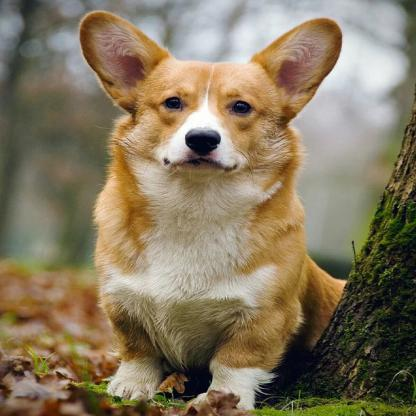Korgi: (76, 10, 352, 406)
